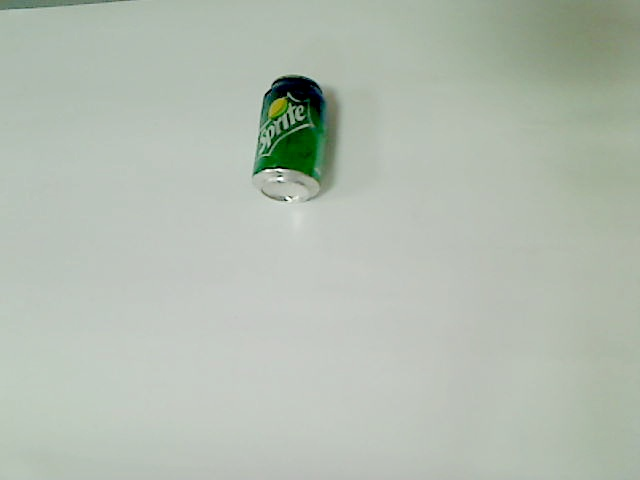can: (248, 74, 333, 203)
